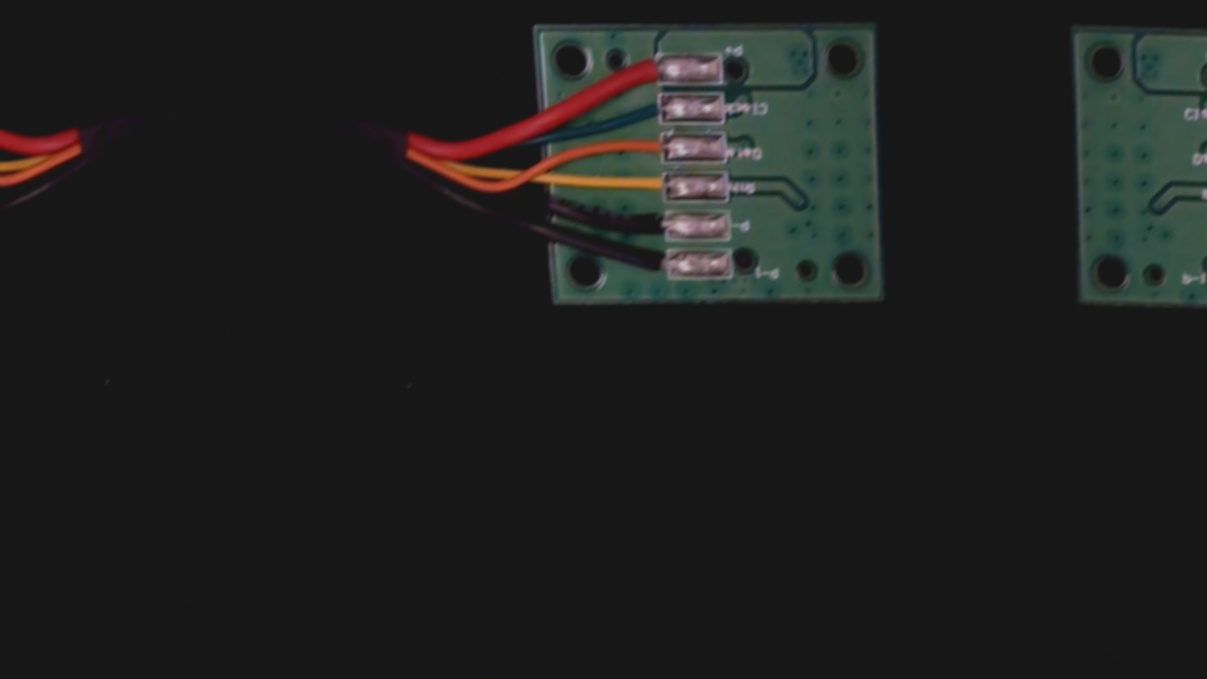Black: (621, 208, 683, 242)
Black1: (621, 247, 685, 281)
Green: (625, 90, 676, 126)
Orange: (624, 129, 679, 162)
Red: (625, 50, 676, 85)
Yellow: (624, 166, 681, 206)
